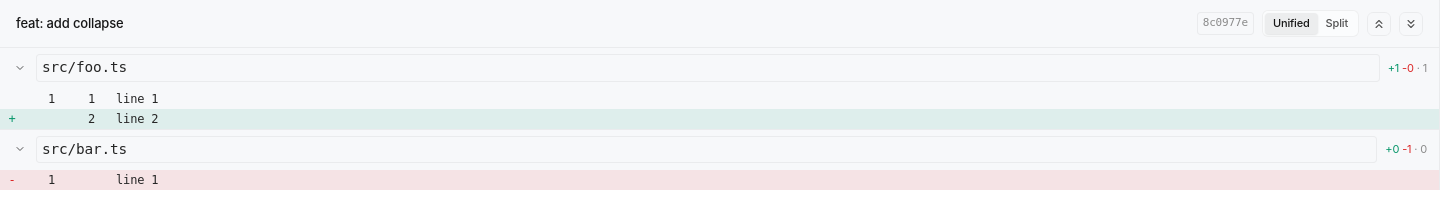
Scenario: DiffTextView › has aria-expanded attribute on file collapse chevrons
Click the button with test id "diff-file-collapse-src/foo.ts": (20, 68) [14,62,26,74]
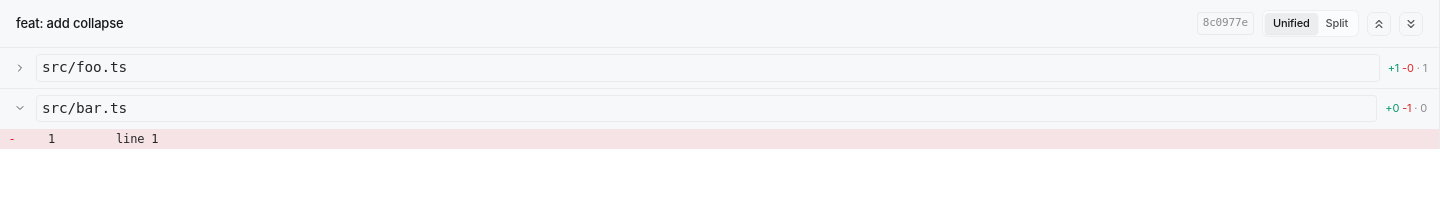
Expected: the button with test id "diff-file-collapse-src/foo.ts" is expanded, [14,62,26,74]
